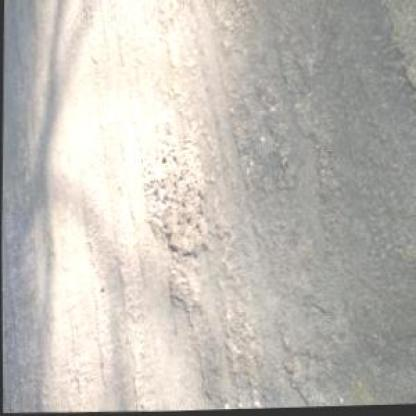pothole: (144, 141, 208, 261), (166, 258, 204, 311)
